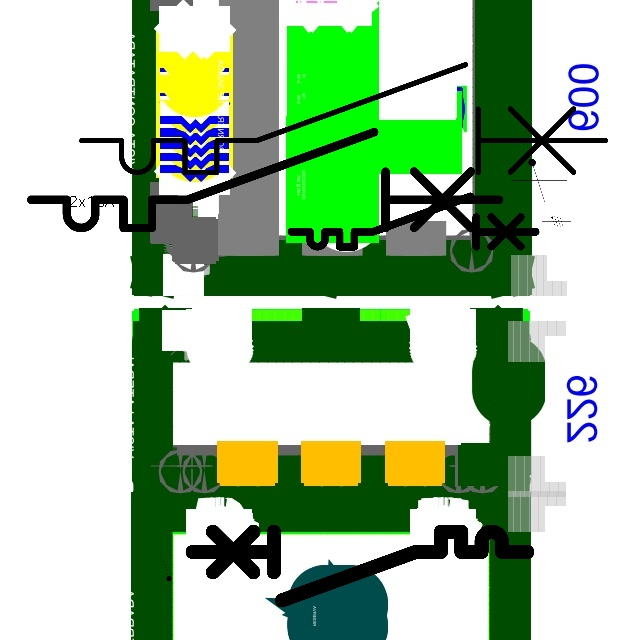interruptor_termomagnetico: (68, 51, 619, 186), (19, 120, 511, 240), (183, 523, 535, 609), (285, 190, 542, 253)
